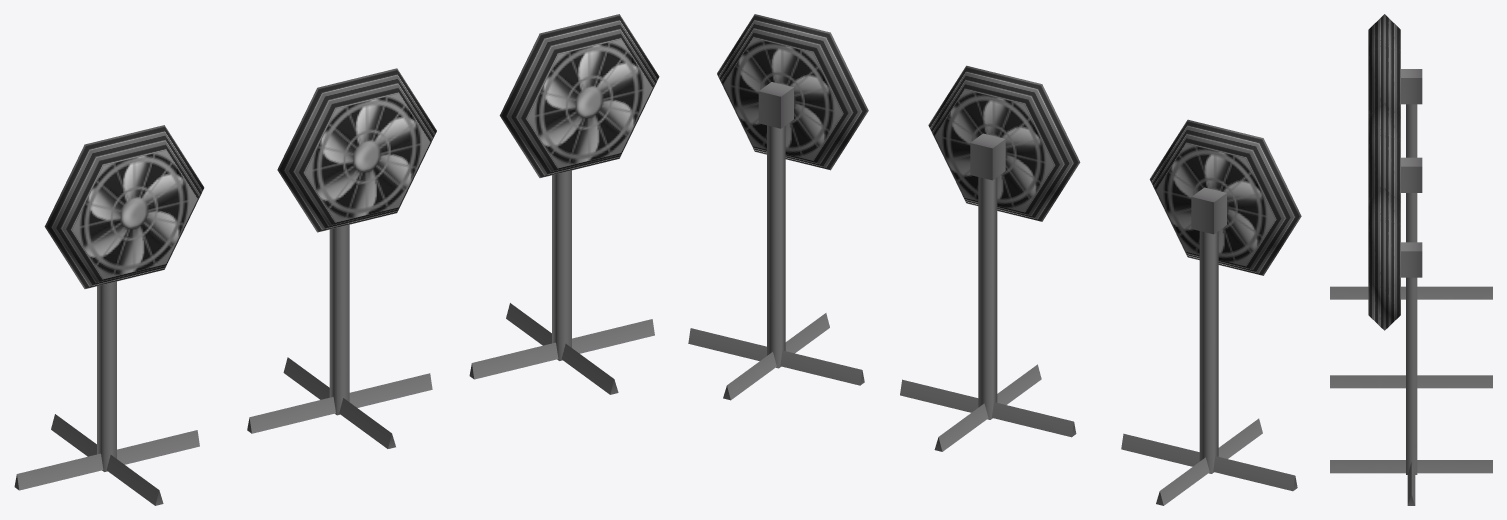
File: Bundle_Standing_Fans.fbx
The picture shows the model from 3 angles, left to right: view 1: azimuth 30°, elevation 25°; view 2: azimuth 150°, elevation 25°; view 3: azimuth 270°, elevation 25°; orthographic projection. The views are drawn at different scales.
Visible parts, largest first — view 1: Bundle_Stand_Fan_1; view 2: Bundle_Stand_Fan_1; view 3: Bundle_Stand_Fan_1.
Boxes of the visible parts, x1,y1,x2,y2 form: Bundle_Stand_Fan_1: (14, 14, 659, 505); Bundle_Stand_Fan_1: (688, 14, 1301, 505); Bundle_Stand_Fan_1: (1330, 14, 1492, 505).
Size of the model in its own units: 272 by 141 by 77.32.
